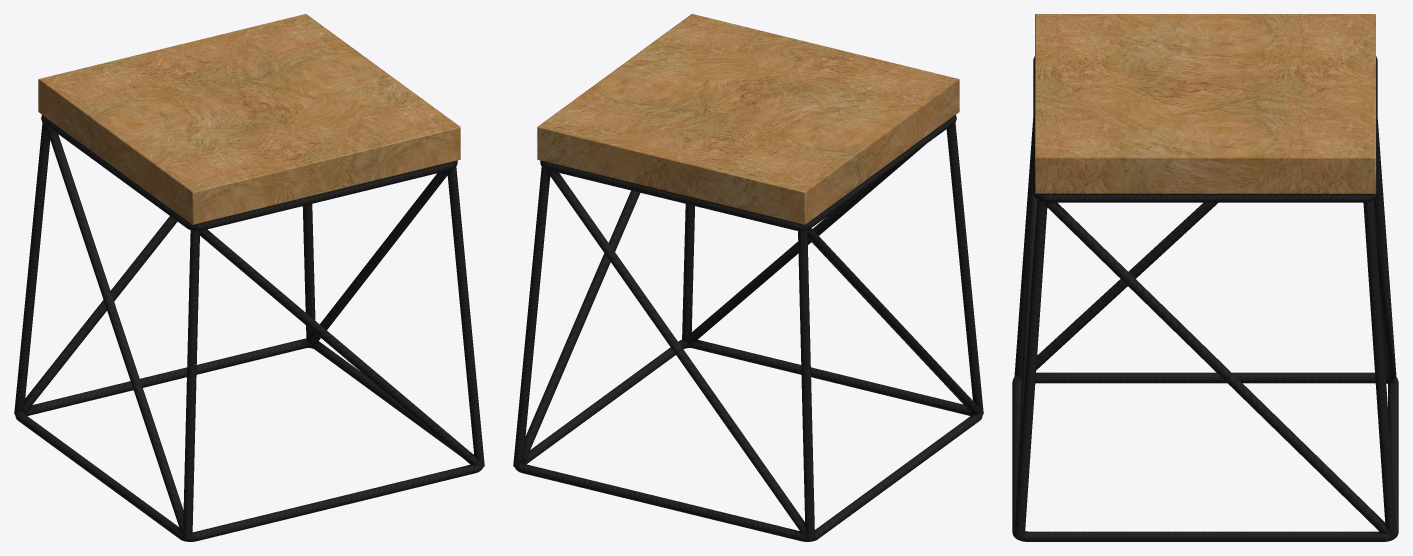
Rendered from wooden_table.gltf.
3 renders of one model, left to right at view 1: azimuth 30°, elevation 25°; view 2: azimuth 150°, elevation 25°; view 3: azimuth 270°, elevation 25°, orthographic. The views are drawn at different scales.
Visible parts, largest first — view 1: iron_chair02_26, Cube; view 2: iron_chair02_26, Cube; view 3: iron_chair02_26, Cube.
Part boxes in pixels (x1,y1,x2,y2): iron_chair02_26: (38,14,460,224); Cube: (14,115,484,541); iron_chair02_26: (537,14,959,224); Cube: (513,115,983,541); iron_chair02_26: (1035,14,1375,193); Cube: (1012,56,1398,541).
Size of the model in its own units: 38.14 by 41.02 by 38.14.
Materials: 1 (1 with a texture image).
